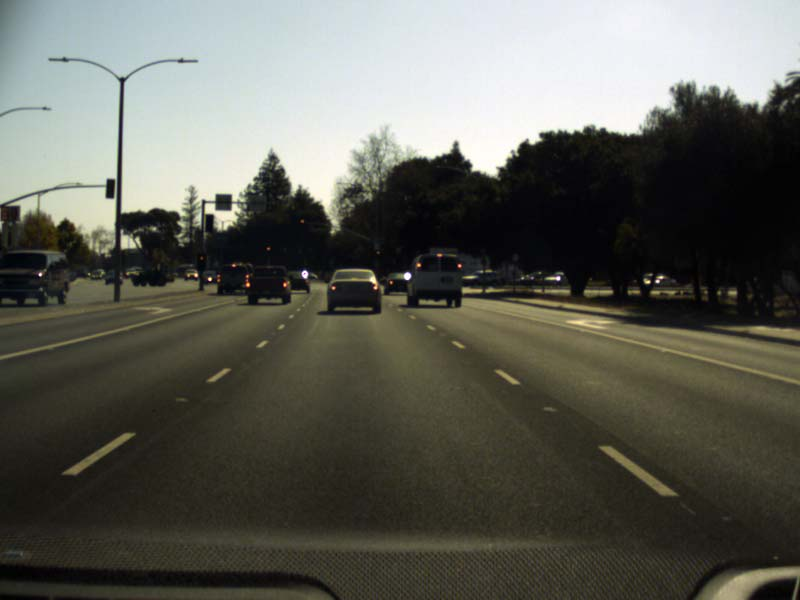Red: (197, 253, 205, 269), (299, 218, 304, 230), (375, 249, 381, 259), (266, 245, 270, 255)
